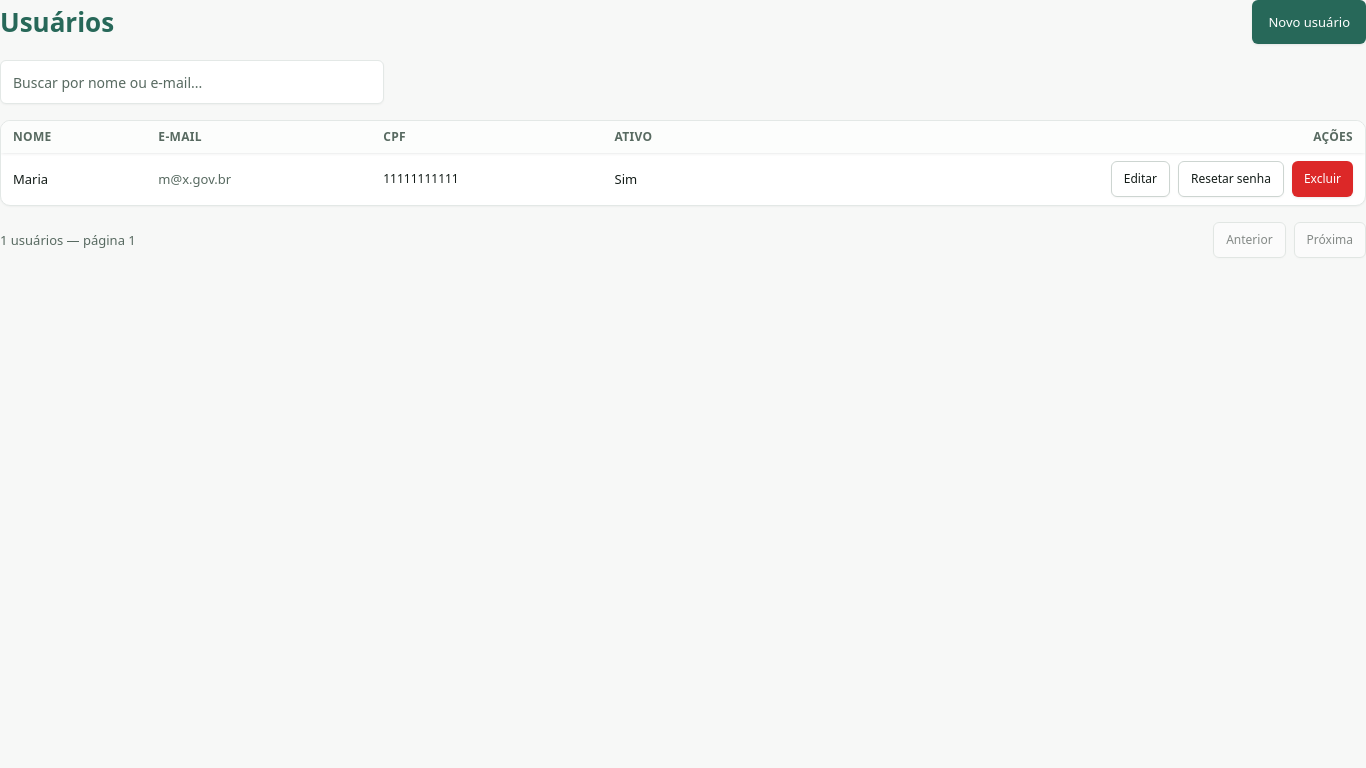
Test: UsuariosPage — edição: copy e payload da senha (SEC-1 follow-up) › copy informa que a senha é temporária e força troca no próximo acesso
This screenshot has width=1366, height=768.
Click the button "Editar": (1140, 179) x1=1111 y1=161 x2=1170 y2=197
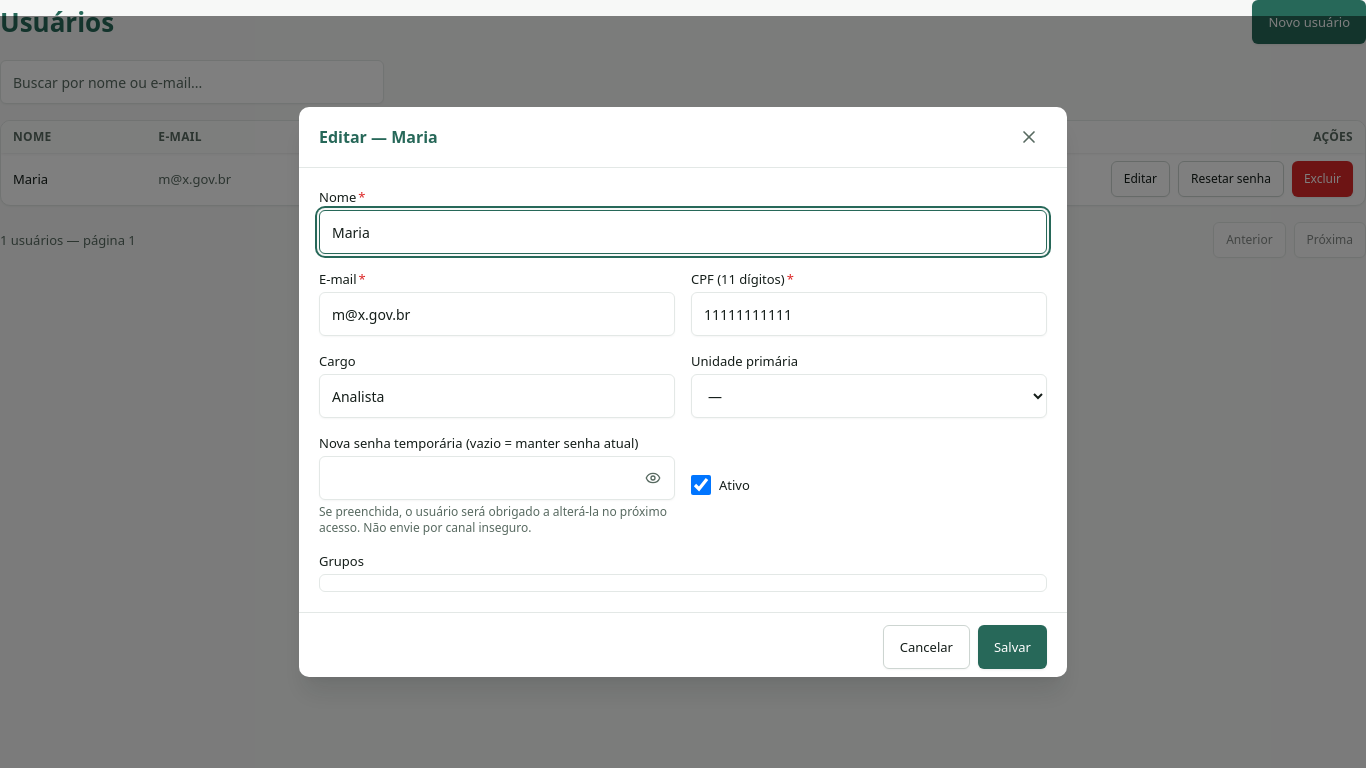
Expected: the dialog is shown, x1=299 y1=107 x2=1067 y2=677
Expected: the password field labelled "Nova senha temporária (vazio = manter senha atual)" is shown, x1=319 y1=456 x2=675 y2=500
Expected: the text "obrigado a alterá-la no próximo acesso" is shown, x1=319 y1=503 x2=667 y2=536
